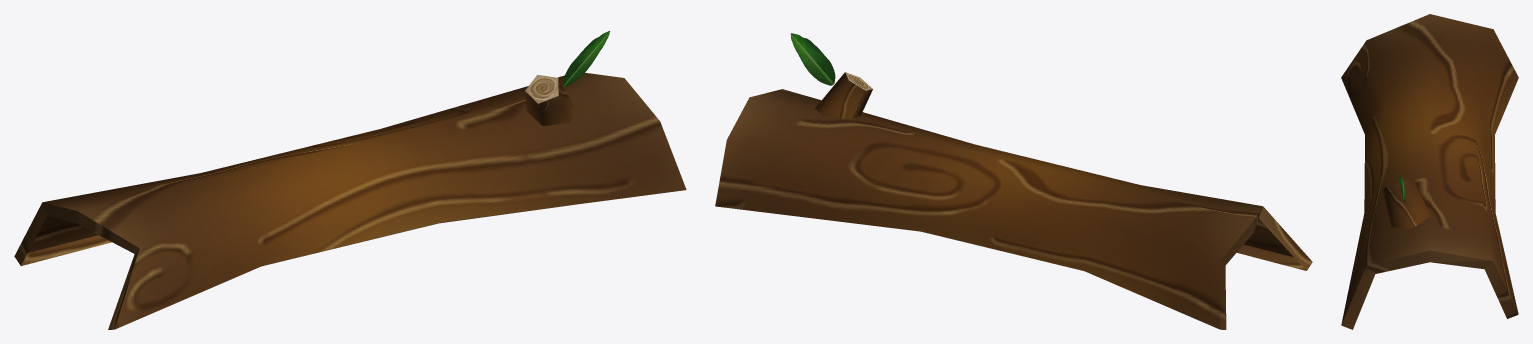
The model's file is Tree_04.FBX.
3 views of the same model, side by side, from view 1: azimuth 30°, elevation 25°; view 2: azimuth 150°, elevation 25°; view 3: azimuth 270°, elevation 25° (orthographic). The views are drawn at different scales.
Parts seen in each view (by area): view 1: tree_04; view 2: tree_04; view 3: tree_04.
Part boxes in pixels (bbox=[...]): tree_04: bbox=[14, 31, 686, 329]; tree_04: bbox=[715, 33, 1312, 329]; tree_04: bbox=[1341, 14, 1518, 329].
Bounding box in the file's own units: 116 × 32.67 × 35.1.
